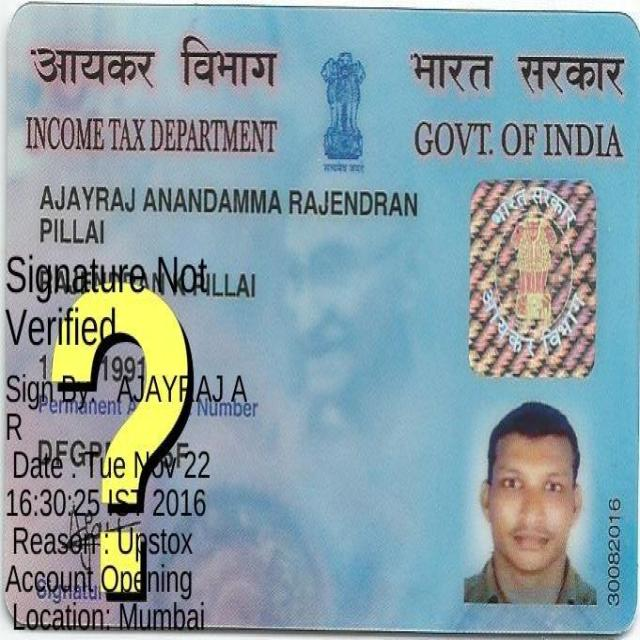pan_card: (5, 16, 636, 627)
